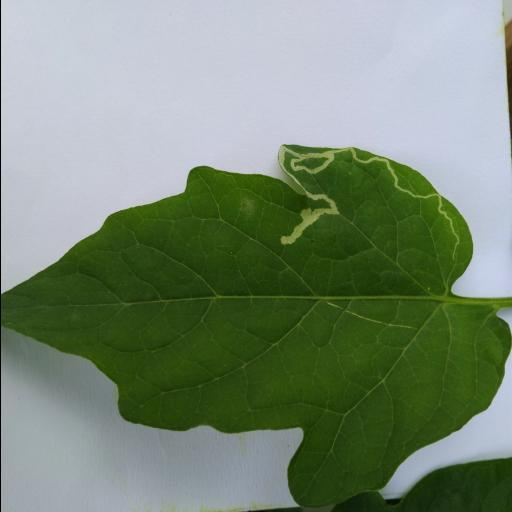disease_tomato: (0, 140, 512, 512)
